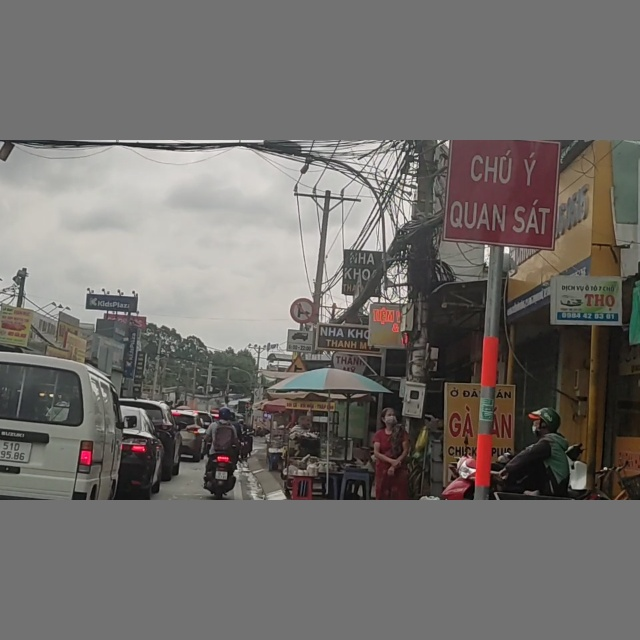P.139: (287, 296, 315, 325)
S.505a*Xe tai: (285, 329, 316, 350)
W.205b: (282, 356, 313, 373)
